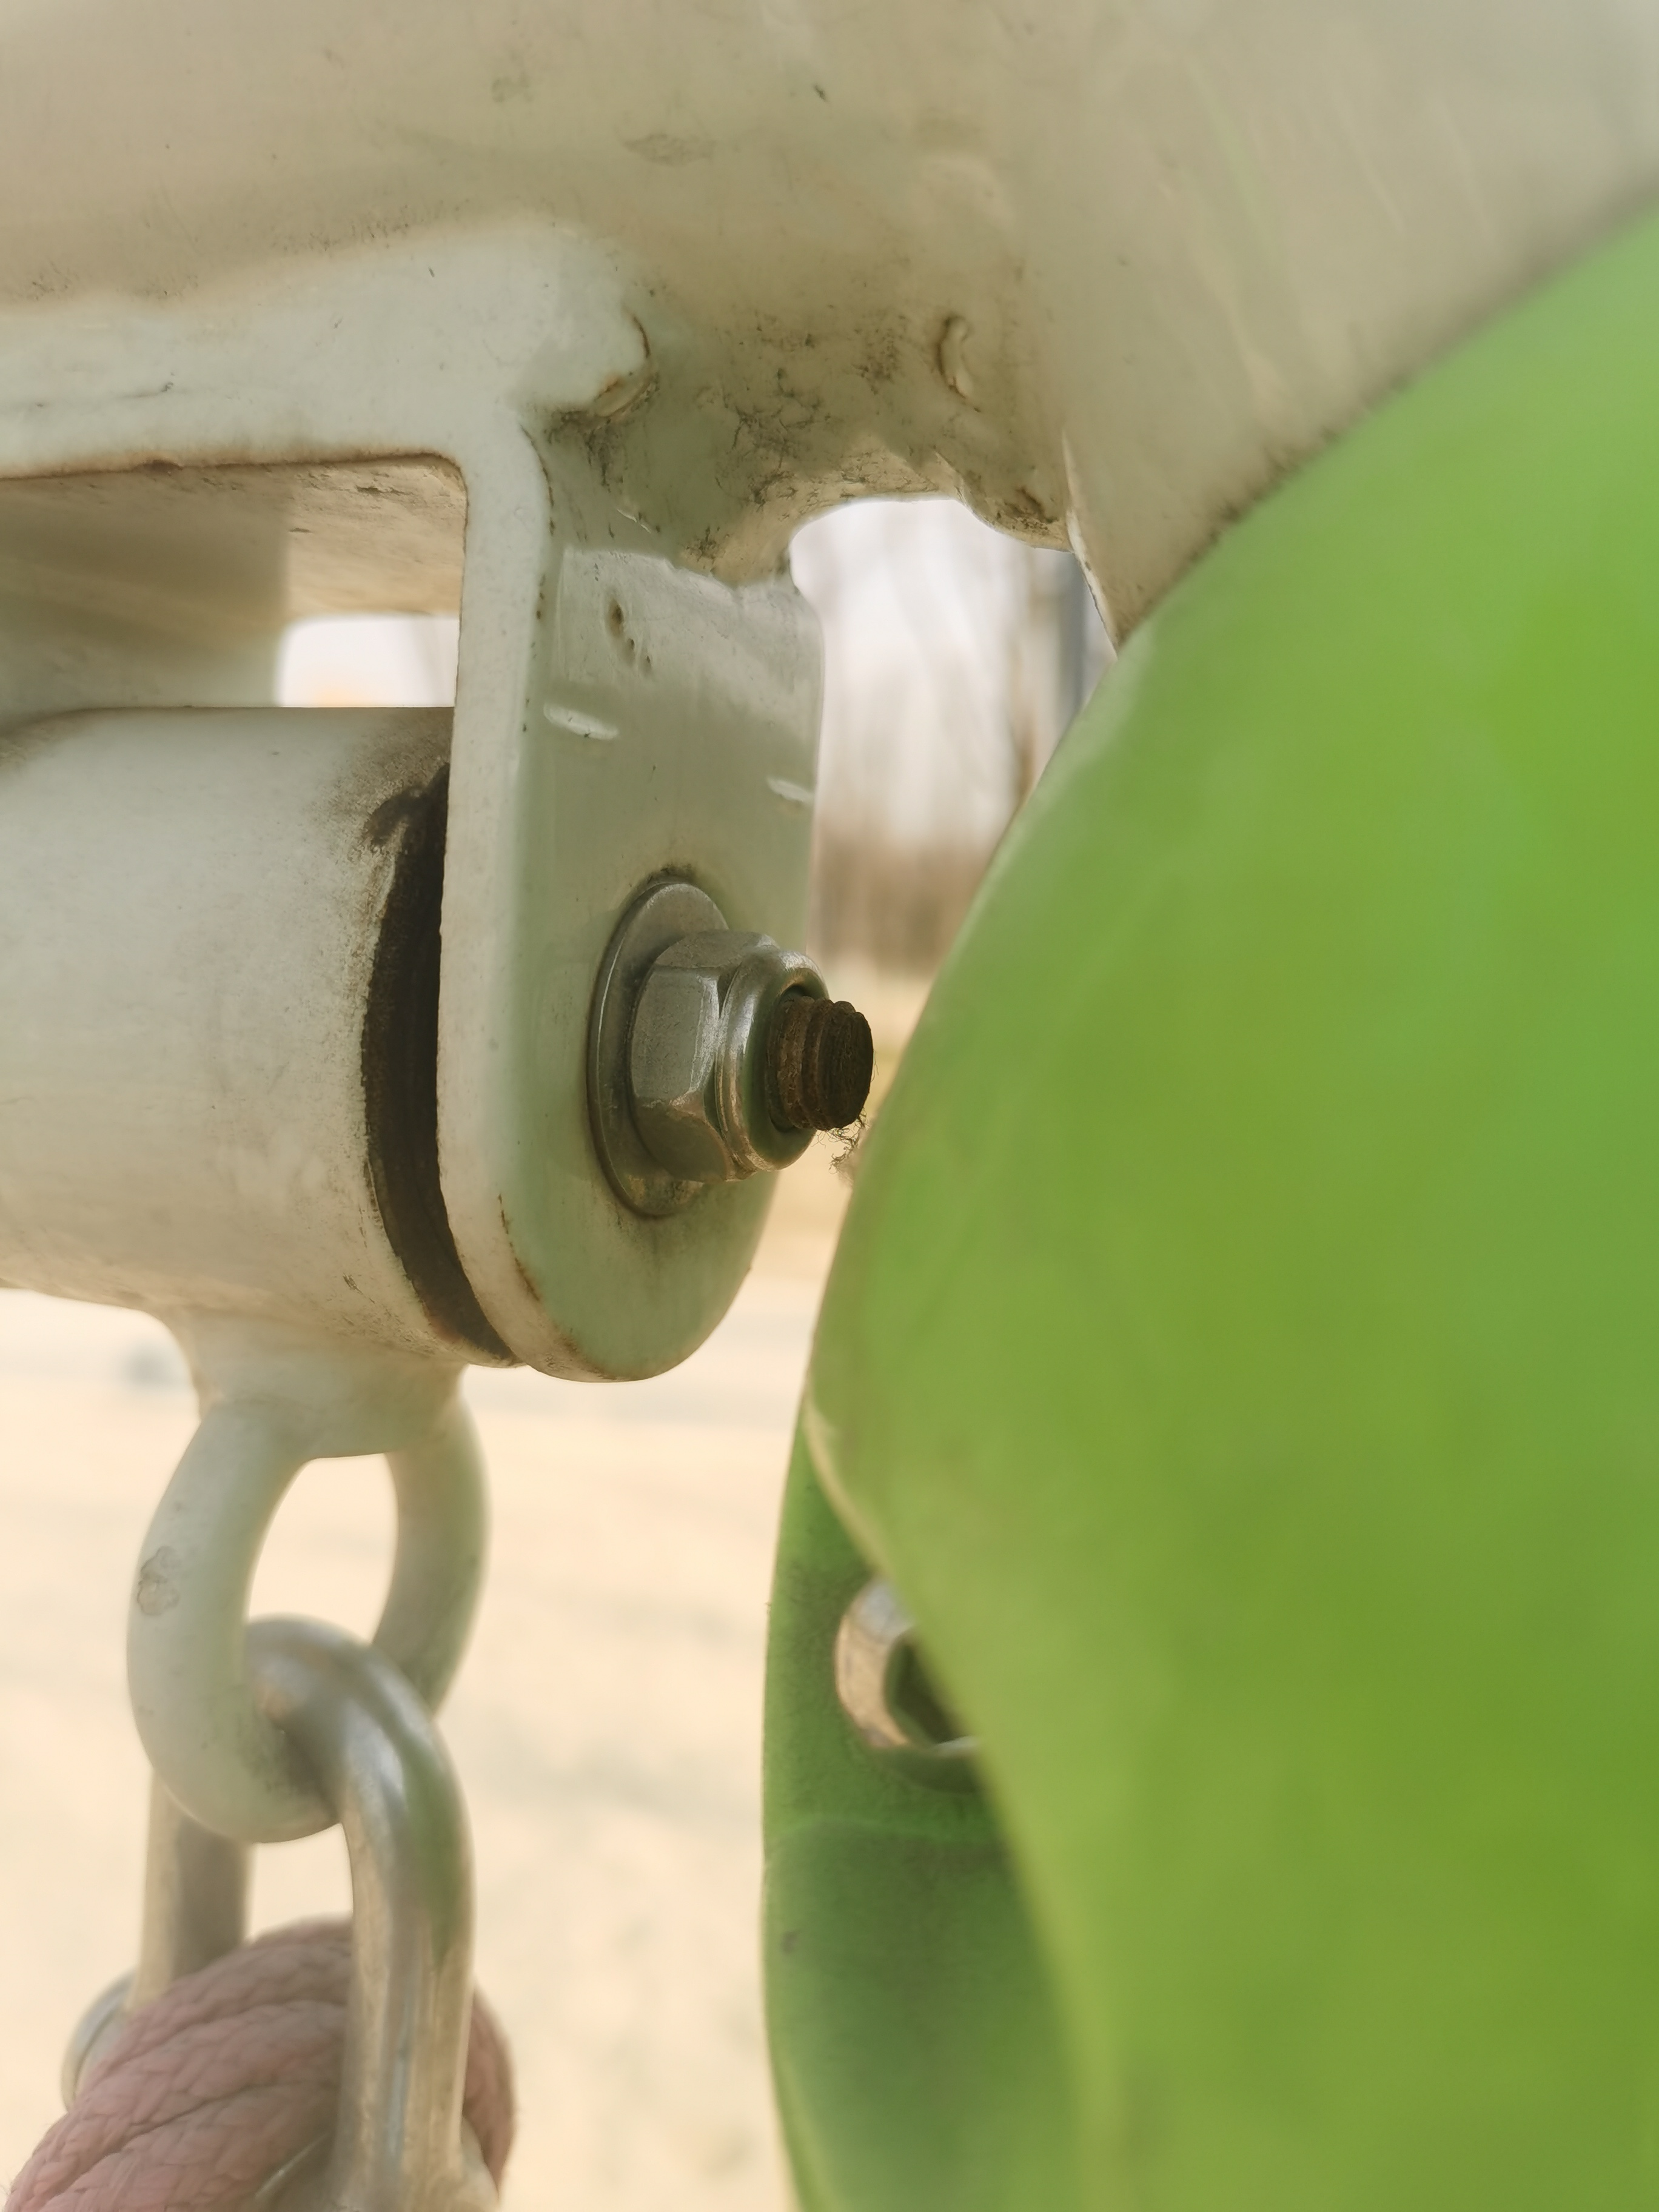bolt_b: (620, 925, 875, 1188)
